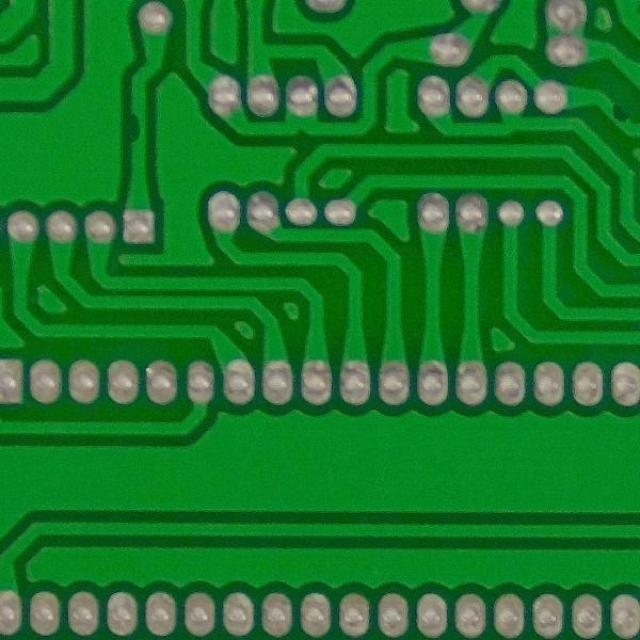MouseBite: (124, 104, 152, 152), (604, 100, 638, 130)
